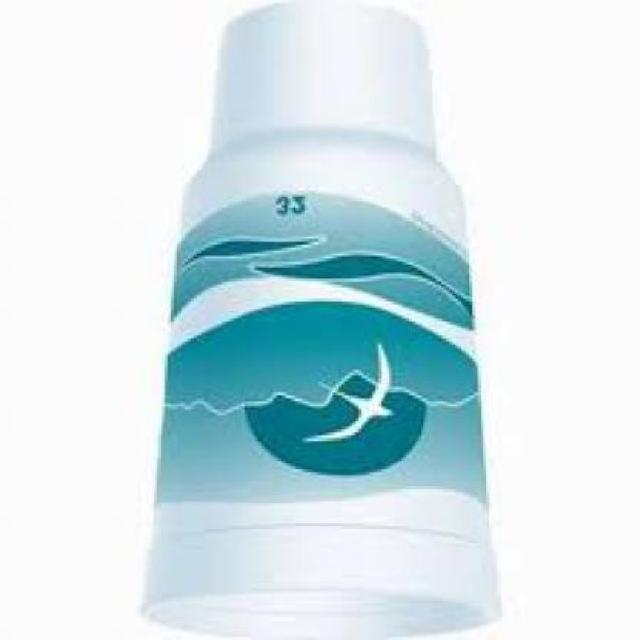PAPER: (138, 3, 496, 639)
